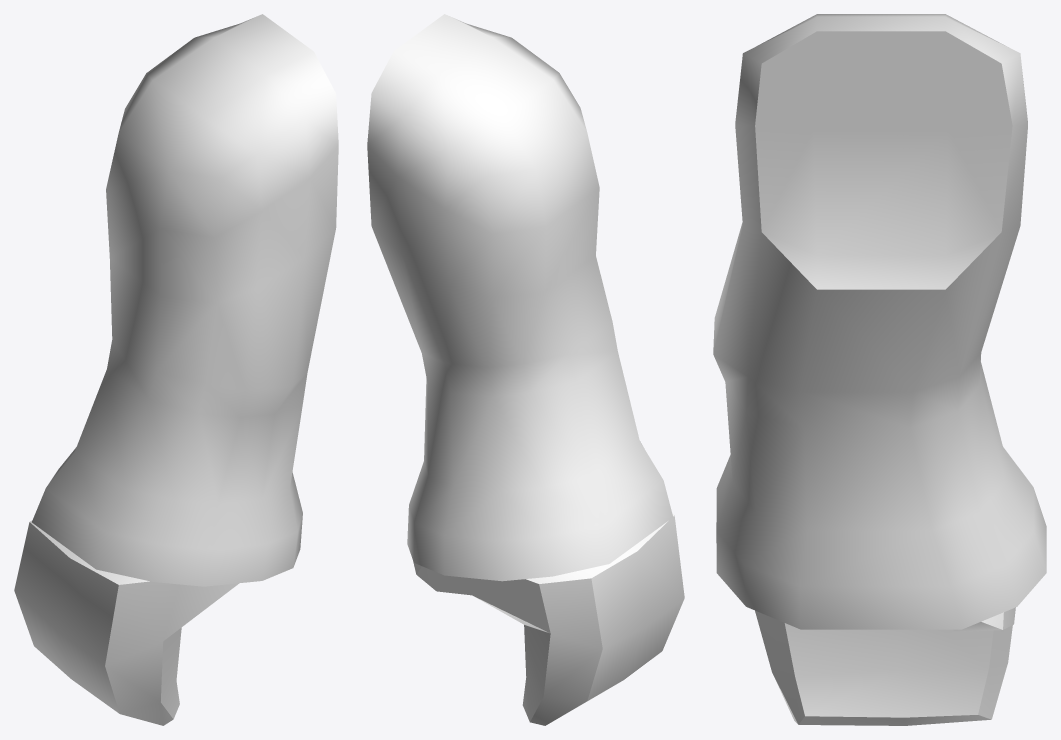
The picture shows the model from 3 angles, left to right: view 1: azimuth 30°, elevation 25°; view 2: azimuth 150°, elevation 25°; view 3: azimuth 270°, elevation 25°; orthographic projection. The views are drawn at different scales.
Visible parts, largest first — view 1: Mesh; view 2: Mesh; view 3: Mesh.
Boxes of the visible parts, x1,y1,x2,y2 form: Mesh: [14, 14, 338, 725]; Mesh: [367, 14, 684, 725]; Mesh: [713, 14, 1046, 725].
Bounding box in the file's own units: 0.909 × 2.28 × 0.8721.
